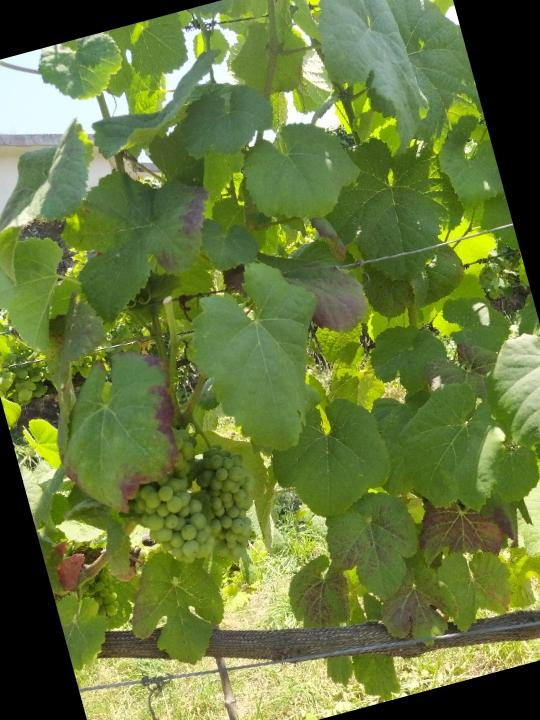grape: (116, 423, 226, 571), (192, 438, 274, 567)
